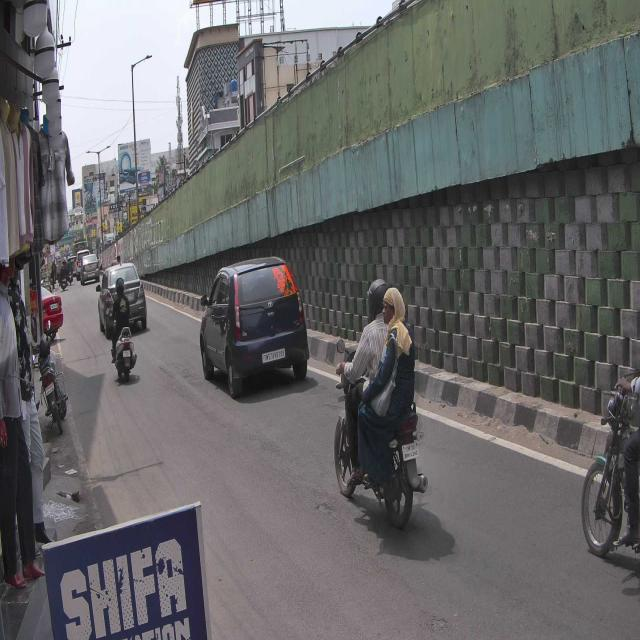double_rider: (332, 278, 428, 532)
